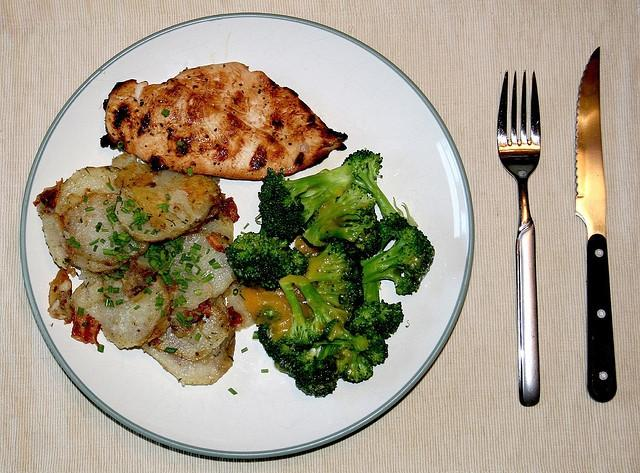broccoli: (258, 160, 356, 240), (342, 150, 418, 228), (278, 274, 354, 352), (360, 226, 436, 296), (224, 232, 308, 292), (344, 279, 404, 340), (304, 237, 362, 283), (295, 344, 339, 398), (258, 324, 300, 360), (336, 348, 374, 384), (352, 222, 382, 260), (361, 334, 388, 367)
green onion: (148, 257, 162, 266), (202, 273, 214, 283), (163, 347, 178, 354), (160, 260, 168, 270), (176, 237, 184, 245), (134, 218, 142, 225), (191, 255, 197, 264), (115, 247, 122, 253), (118, 270, 124, 277), (174, 298, 178, 308), (155, 254, 161, 260), (182, 318, 186, 326), (182, 263, 186, 270), (185, 256, 192, 260), (135, 217, 141, 221), (150, 245, 154, 251), (110, 210, 114, 214), (125, 231, 128, 234)
potato: (114, 163, 228, 244), (71, 268, 179, 349), (62, 192, 150, 265), (138, 326, 235, 386), (147, 294, 231, 361), (166, 232, 237, 310), (56, 166, 122, 216), (33, 194, 69, 270), (226, 283, 254, 331), (197, 214, 234, 246)
